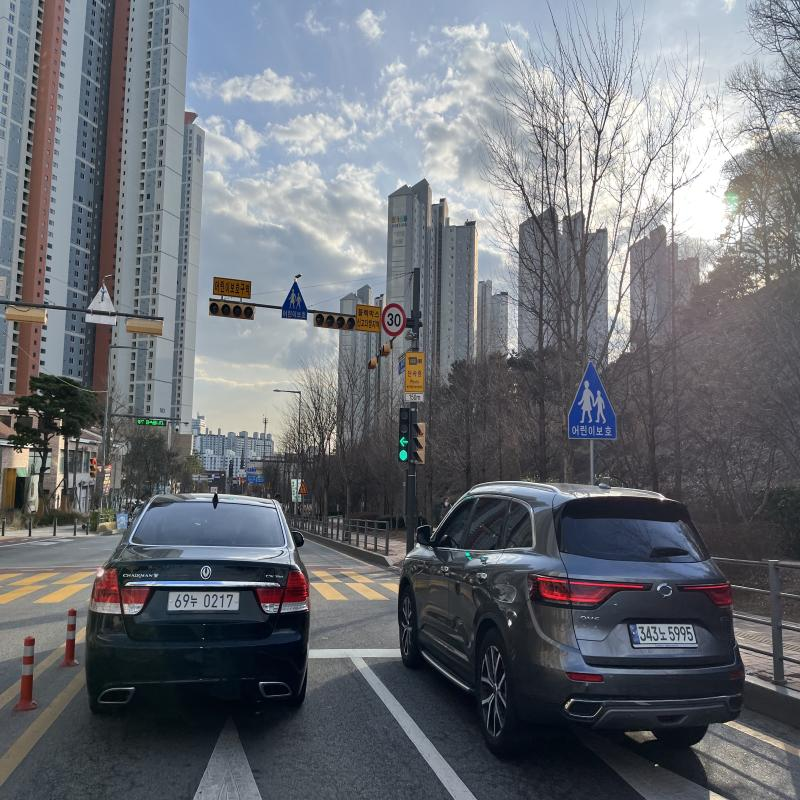green: (399, 450, 408, 462)
left: (399, 436, 408, 449)
